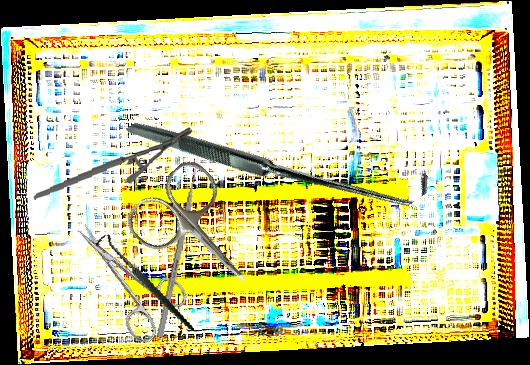Hook Surgical: (125, 2, 436, 314), (93, 218, 195, 351)
Iris Scissors: (120, 154, 279, 315), (56, 202, 196, 348)
Needle Holder: (29, 125, 198, 200)
Pusher: (156, 155, 203, 338)
